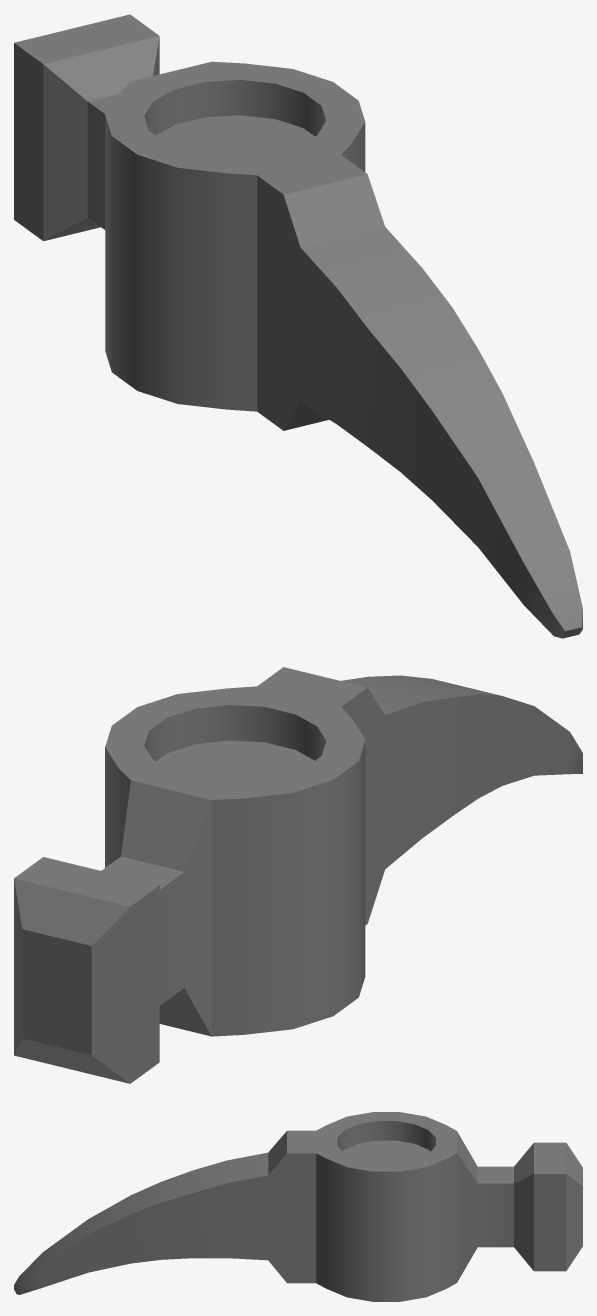
Rendered from pickHead.obj.
The picture shows the model from 3 angles, top to bottom: view 1: azimuth 30°, elevation 25°; view 2: azimuth 150°, elevation 25°; view 3: azimuth 270°, elevation 25°; orthographic projection. The views are drawn at different scales.
Visible parts, largest first — view 1: Cylinder.000; view 2: Cylinder.000; view 3: Cylinder.000.
Boxes of the visible parts, x1,y1,x2,y2 form: Cylinder.000: [14, 14, 582, 638]; Cylinder.000: [14, 667, 582, 1083]; Cylinder.000: [14, 1112, 582, 1301].
Bounding box in the file's own units: 1.96 × 2.31 × 7.92.
Materials: 1 (1 with a texture image).
